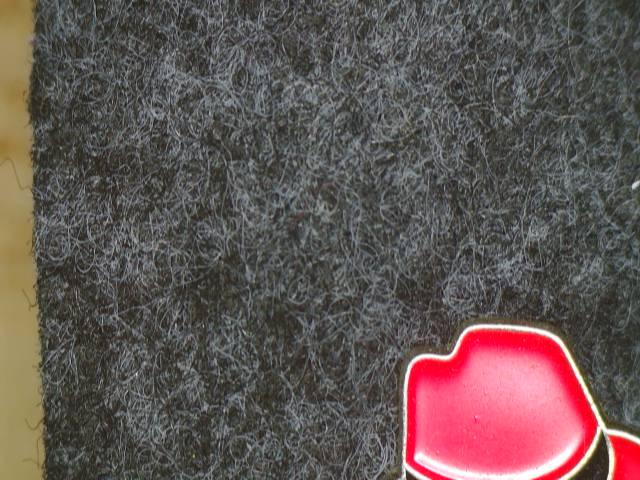Red-Hat: (354, 301, 640, 480)
